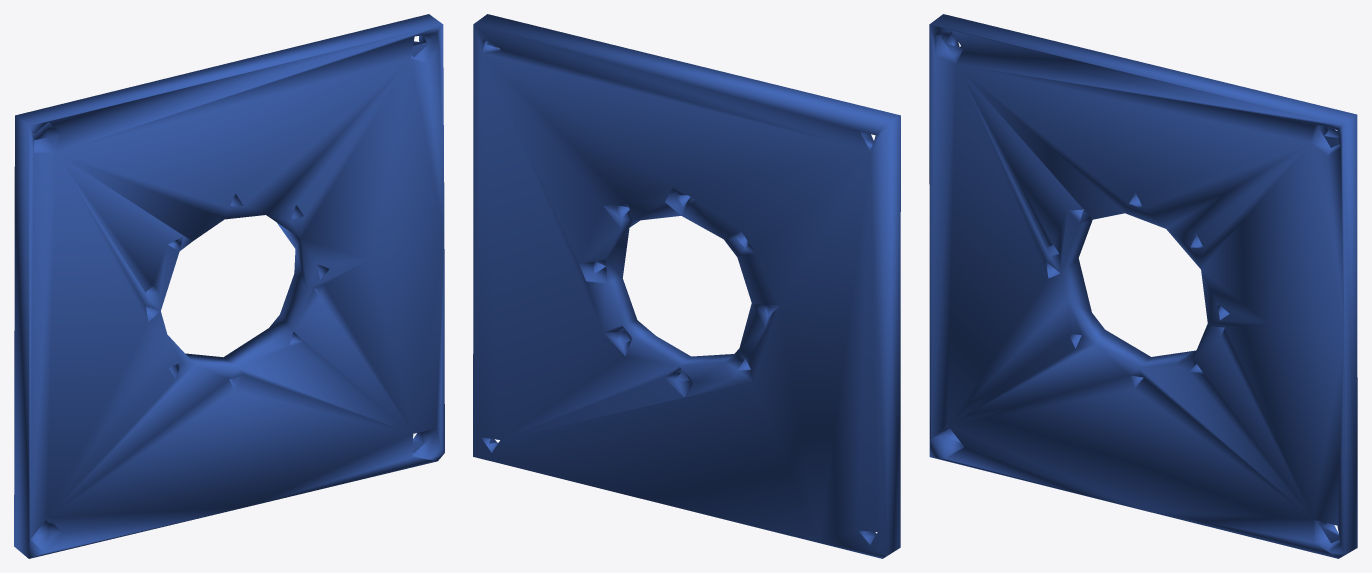
The model's file is pedestal_purdue.obj.
3 renders of one model, left to right at view 1: azimuth 30°, elevation 25°; view 2: azimuth 150°, elevation 25°; view 3: azimuth 330°, elevation 25°, orthographic.
Visible parts, largest first — view 1: pedestal_purdue; view 2: pedestal_purdue; view 3: pedestal_purdue.
Part boxes in pixels (x1,y1,x2,y2): pedestal_purdue: [14, 14, 444, 558]; pedestal_purdue: [473, 14, 900, 558]; pedestal_purdue: [929, 14, 1357, 558].
Bounding box in the file's own units: 0.1653 × 0.1656 × 0.0102.
